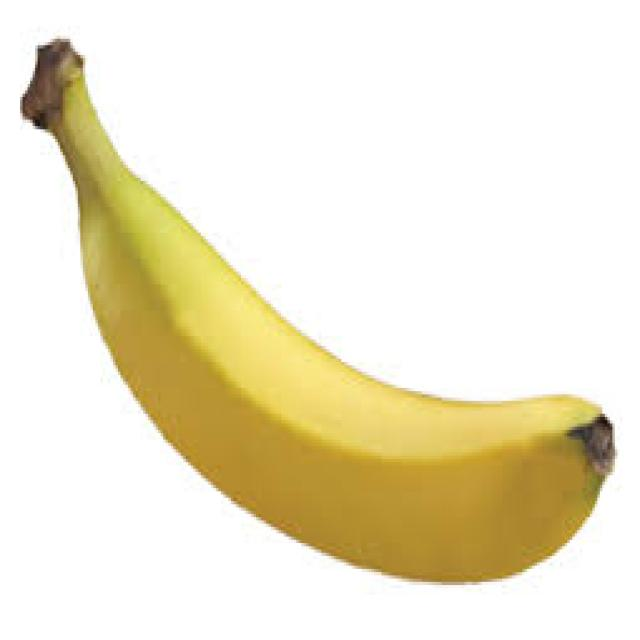Banana: (52, 86, 611, 611)
